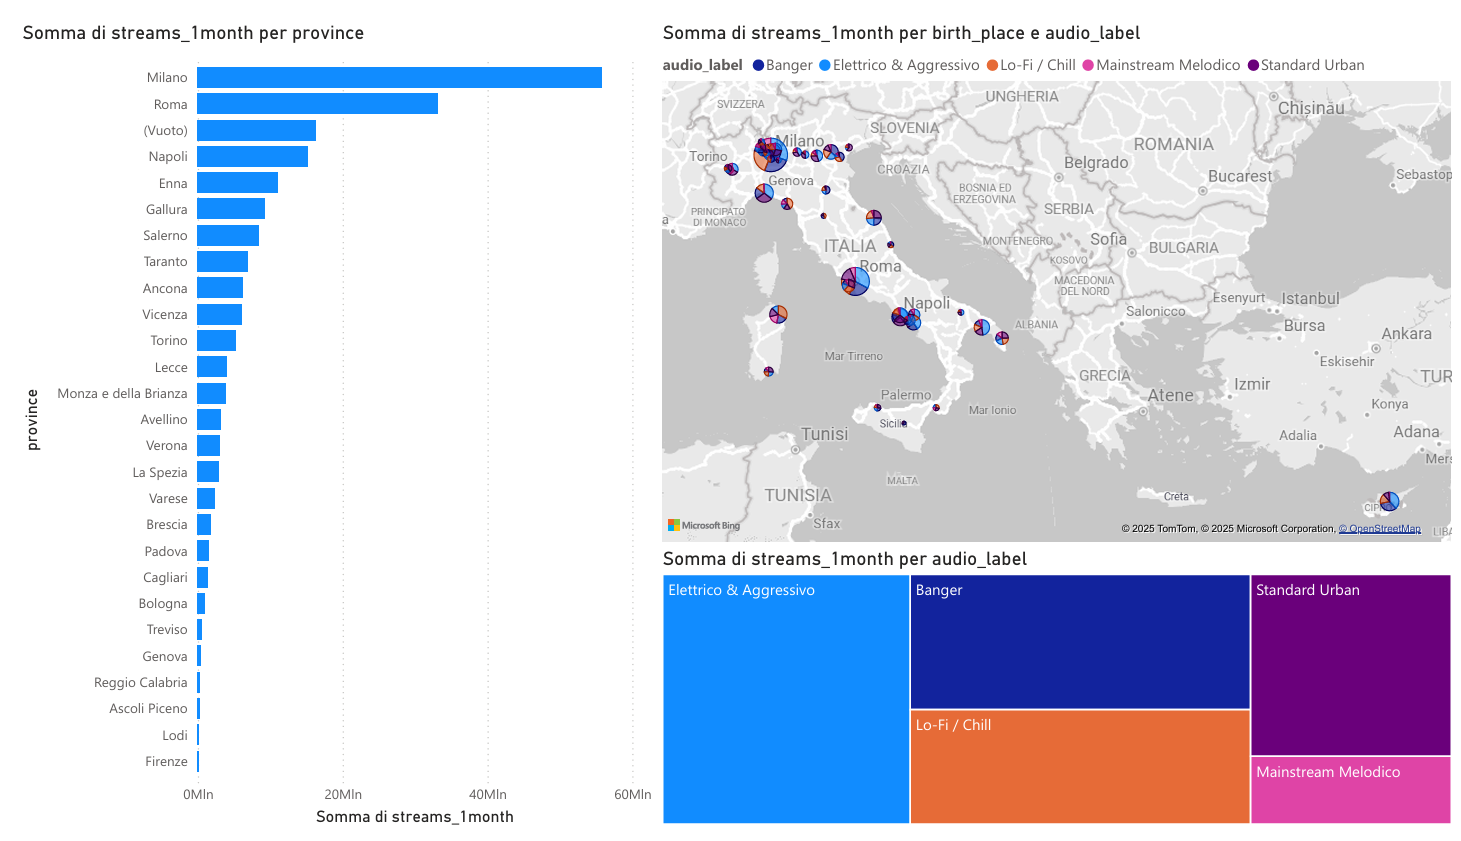

This screenshot's page, from the dashboard's own definition file:
{"tool":"powerbi","page":{"name":"A20","canvas":[1280,720],"ordinal":0},"visuals":[{"type":"map","fields":{"Category":["Group_ID_6 GeographyDim.birth_place"],"Series":["Group_ID_6 SymphonyDim.audio_label"],"Size":["Sum(Group_ID_6 FactSong.streams_1month)"]},"box":[568.9,0,711.1,360.5],"z":0},{"type":"treemap","fields":{"Group":["Group_ID_6 SymphonyDim.audio_label"],"Values":["Sum(Group_ID_6 FactSong.streams_1month)"]},"box":[568.9,347.8,711.1,371.7],"z":1000},{"type":"barChart","fields":{"Y":["Sum(Group_ID_6 FactSong.streams_1month)"],"Category":["Group_ID_6 GeographyDim.province"]},"box":[0,0,568.9,719.6],"z":2000}]}

Visuals, with their boxes in screenshot pixels (x1, y1, x2, y2), scaled from the page's 1280x720 canvas onto the 1461x841 screenshot:
map - Group_ID_6 GeographyDim.birth_place x Group_ID_6 SymphonyDim.audio_label: crop(649, 0, 1460, 421)
treemap - Group_ID_6 SymphonyDim.audio_label x Sum(Group_ID_6 FactSong.streams_1month): crop(649, 406, 1460, 840)
barChart - Sum(Group_ID_6 FactSong.streams_1month) x Group_ID_6 GeographyDim.province: crop(0, 0, 649, 840)
